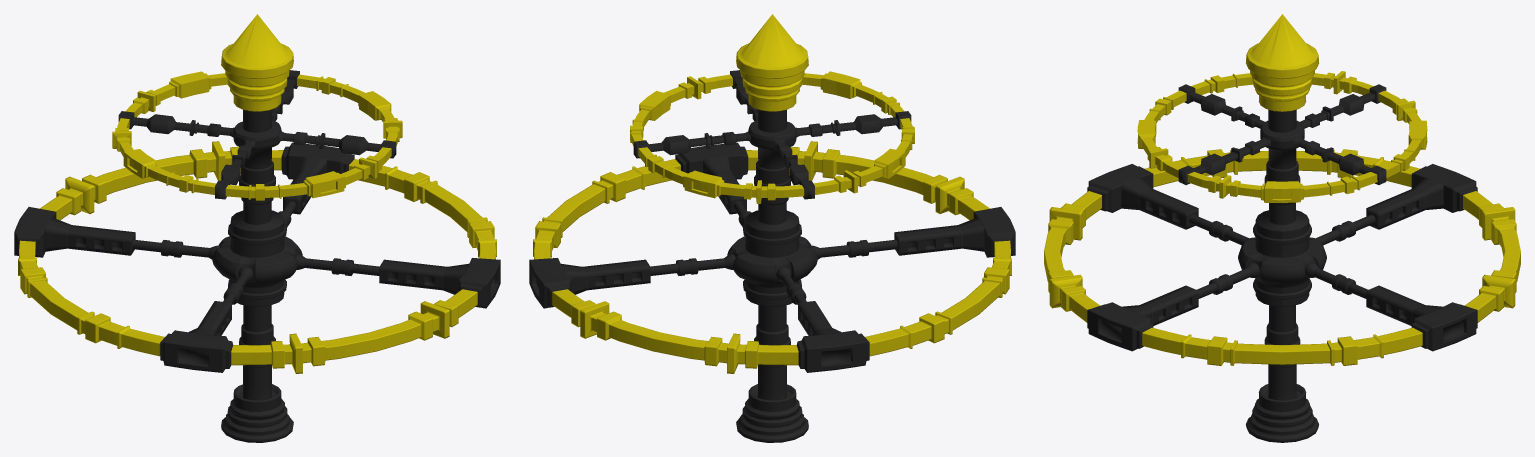
File: situation_yellow.glb
3 renders of one model, left to right at view 1: azimuth 30°, elevation 25°; view 2: azimuth 150°, elevation 25°; view 3: azimuth 270°, elevation 25°, orthographic.
Parts seen in each view (by area): view 1: external_smaller; view 2: external_smaller; view 3: external_smaller.
Part boxes in pixels (<box>): external_smaller: <box>14,14,500,442</box>; external_smaller: <box>529,14,1015,442</box>; external_smaller: <box>1044,14,1520,442</box>.
Size of the model in its own units: 7.45 by 7.14 by 7.45.
